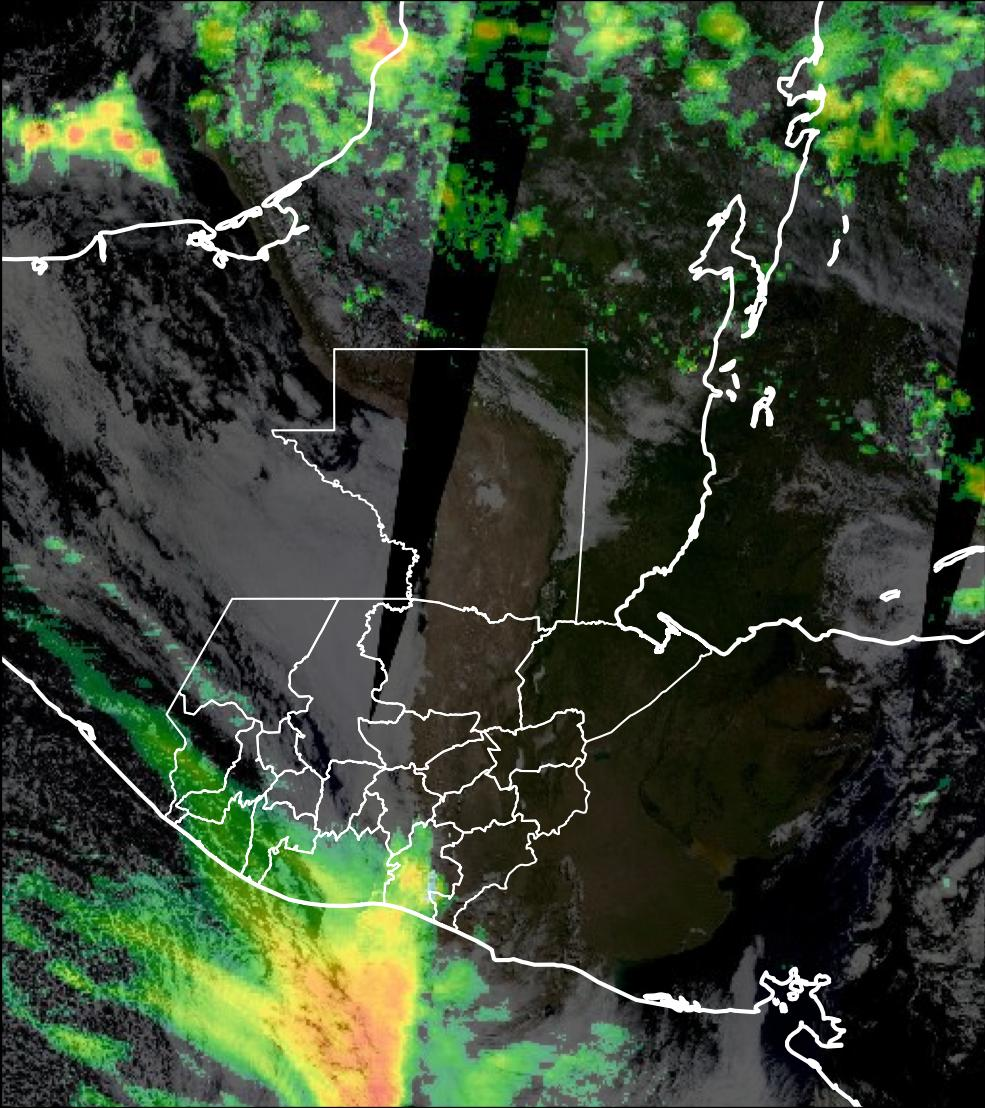precipitacion: (284, 950, 428, 1108), (356, 12, 410, 75)
